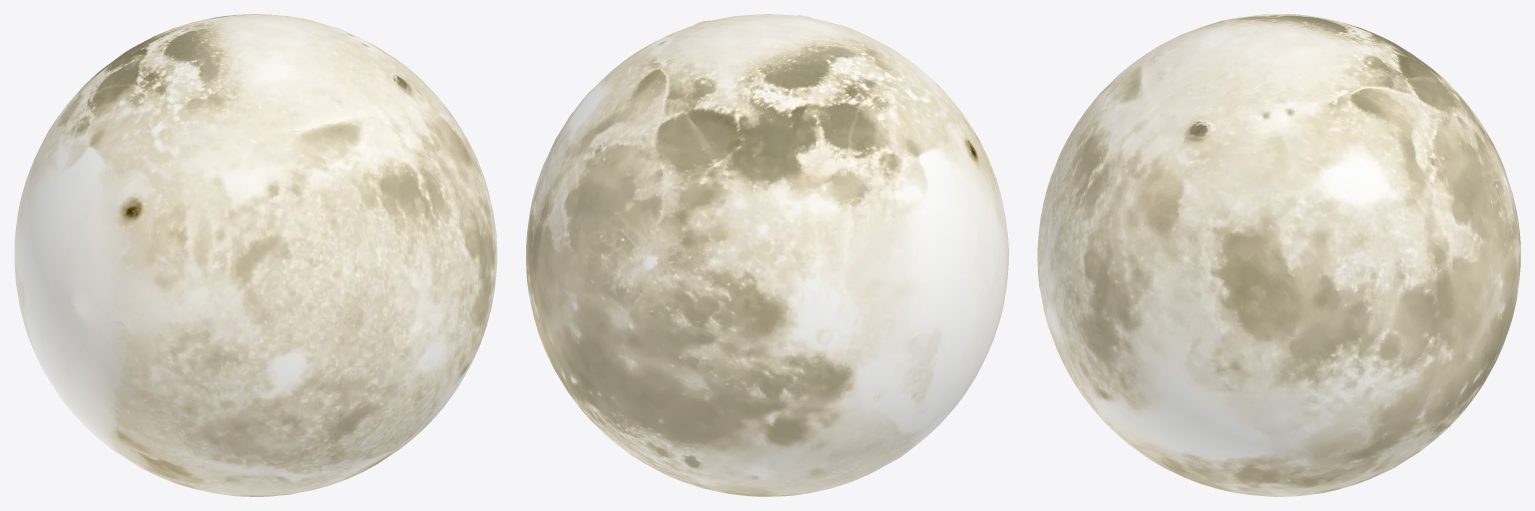
File: real-moon.glb
3 views of the same model, side by side, from view 1: azimuth 30°, elevation 25°; view 2: azimuth 150°, elevation 25°; view 3: azimuth 270°, elevation 25° (orthographic).
Bounding box in the file's own units: 1.9 × 1.89 × 1.9.
1 material, 1 textured.
